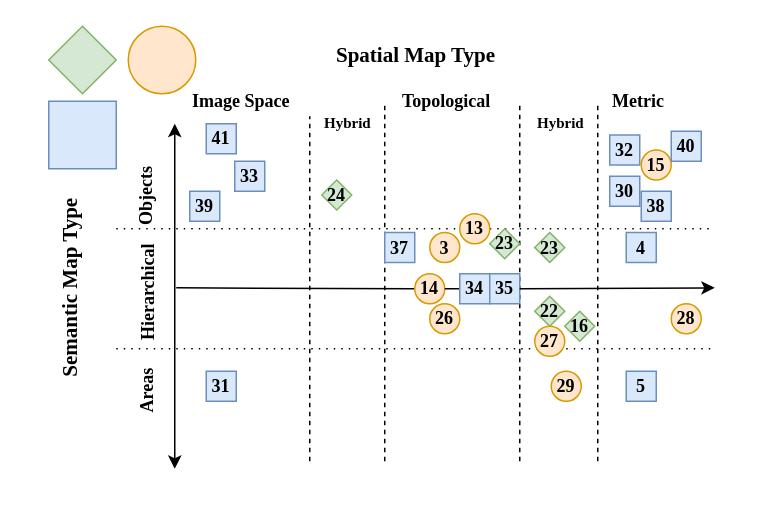
Image size: 779x509. Some labels were removed from this diagram. Each missing label, with the centre of its shape:
Generic: (81,59)
Ground: (161,59)
UAV: (81,134)
